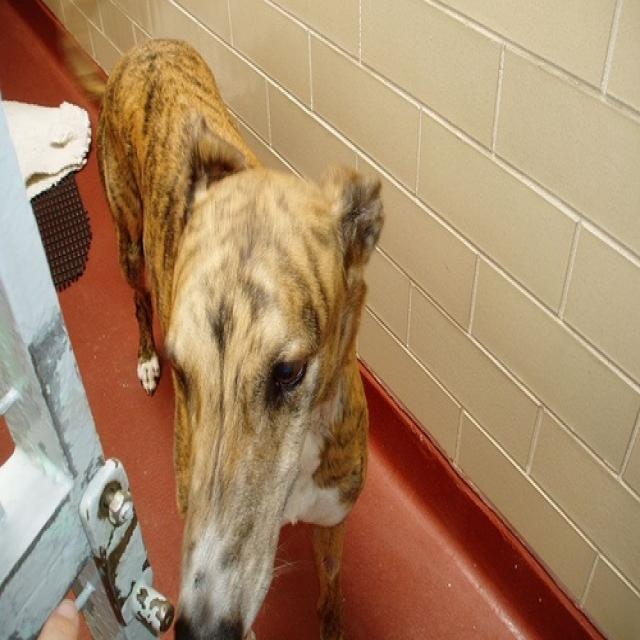dog: (92, 38, 385, 638)
